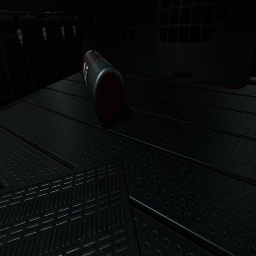NitrogenTank ,: (82, 49, 125, 124)
